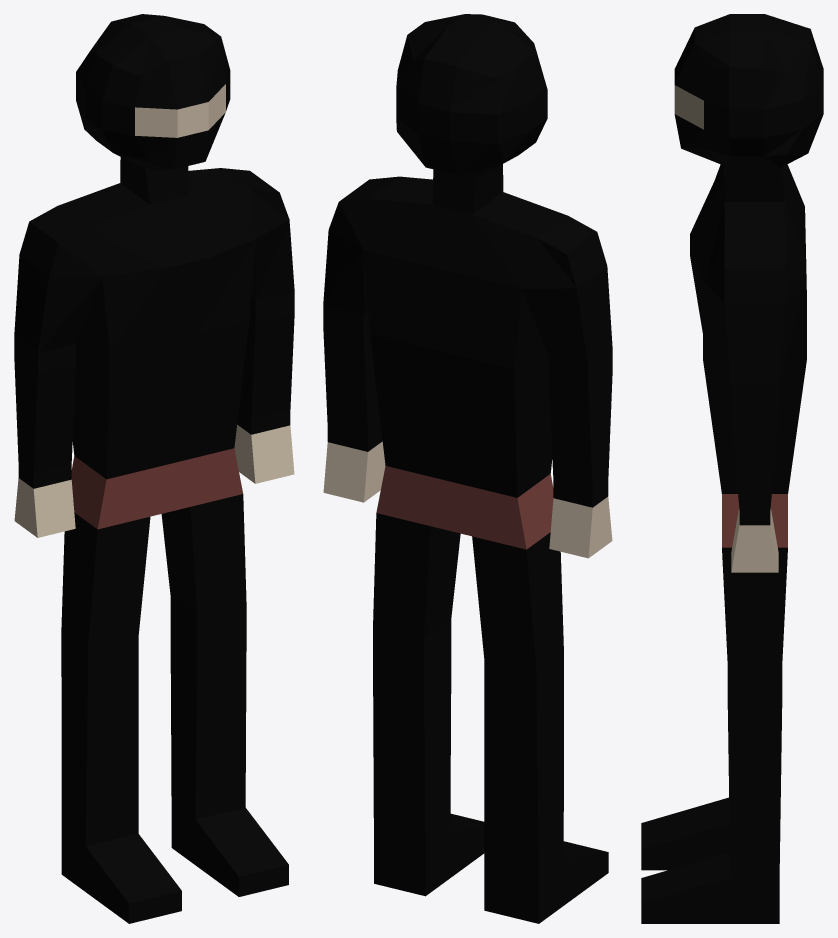
File: Enemy.fbx
3 renders of one model, left to right at view 1: azimuth 30°, elevation 25°; view 2: azimuth 150°, elevation 25°; view 3: azimuth 270°, elevation 25°, orthographic. The views are drawn at different scales.
Visible parts, largest first — view 1: pCube1; view 2: pCube1; view 3: pCube1.
Boxes of the visible parts, x1,y1,x2,y2 form: pCube1: (14, 14, 294, 923); pCube1: (323, 14, 612, 923); pCube1: (641, 14, 823, 923).
Size of the model in its own units: 1.09 by 3.42 by 0.6558.
